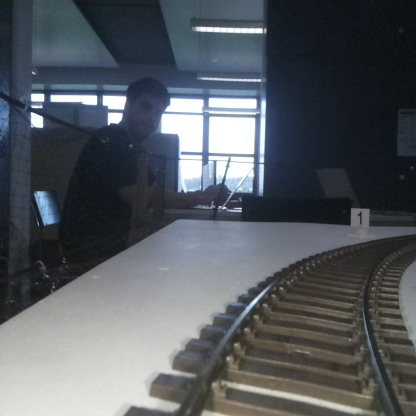white-stop-1: (351, 209, 369, 235)
